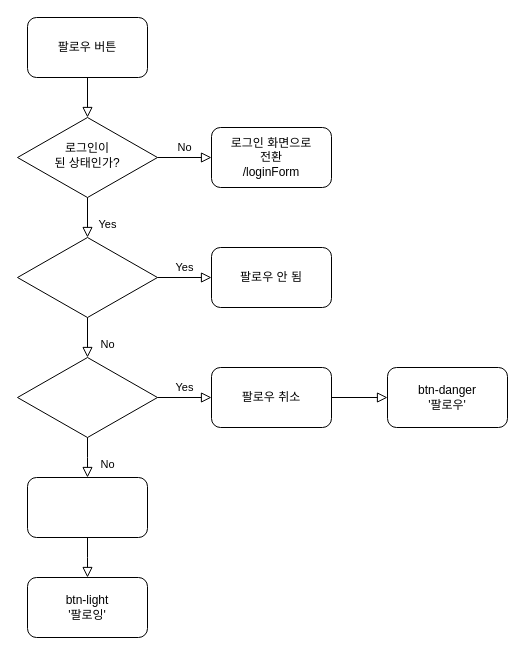
Some shapes in this 525 by 655 pixel diagram are drawn without their labels. Here are the shapes that lost their labels. From the top down, the centre of each, then its label:
point 87,277: 자신의 계정인가?
point 87,397: 팔로우 이력이 있는가?
point 87,507: 팔로우 등록
